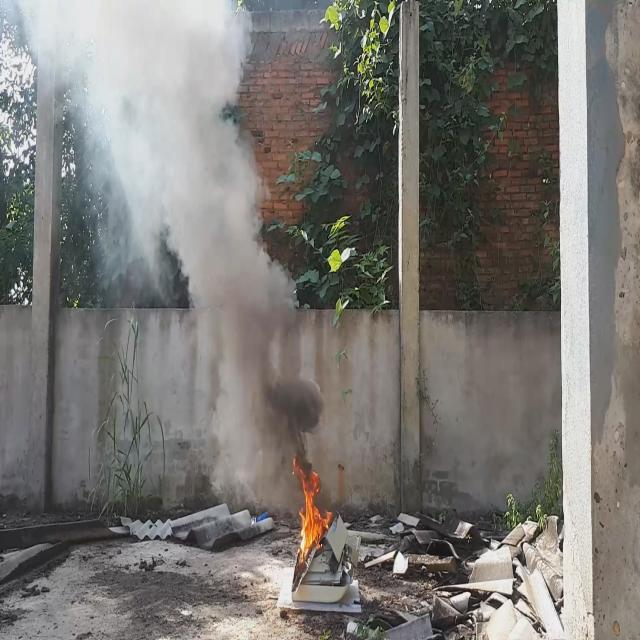Fire: (292, 447, 334, 576)
Smoke: (16, 0, 326, 523)
